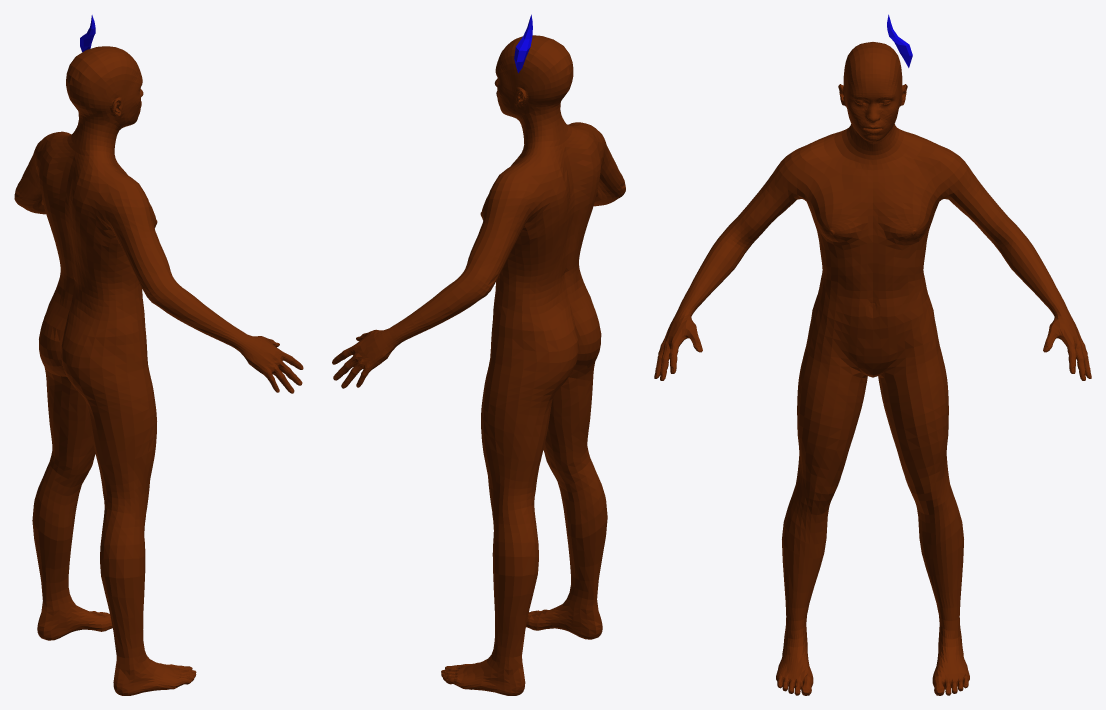
The model's file is horns.glb.
3 views of the same model, side by side, from view 1: azimuth 30°, elevation 25°; view 2: azimuth 150°, elevation 25°; view 3: azimuth 270°, elevation 25° (orthographic).
Parts seen in each view (by area): view 1: head; view 2: head, Cylinder; view 3: head.
Boxes of the visible parts, <box> form: head: <box>14,46,303,695</box>; head: <box>332,35,625,695</box>; Cylinder: <box>514,14,532,73</box>; head: <box>654,42,1091,695</box>.
Bounding box in the file's own units: 4.28 × 17.48 × 10.57.
